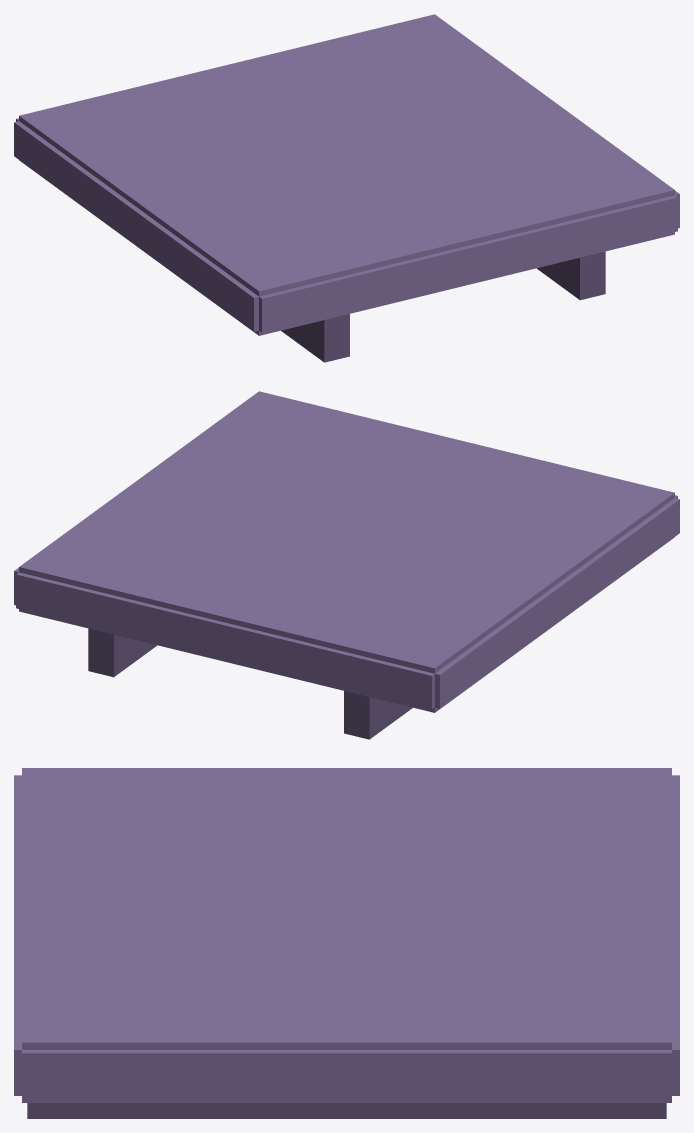
File: ebonwood_platform_v0.glb
3 renders of one model, top to bottom at view 1: azimuth 30°, elevation 25°; view 2: azimuth 150°, elevation 25°; view 3: azimuth 270°, elevation 25°, orthographic. The views are drawn at different scales.
Visible parts, largest first — view 1: ebonwood_platform_v0; view 2: ebonwood_platform_v0; view 3: ebonwood_platform_v0.
Boxes of the visible parts, x1,y1,x2,y2 form: ebonwood_platform_v0: (14, 14, 679, 362); ebonwood_platform_v0: (14, 391, 679, 739); ebonwood_platform_v0: (14, 768, 679, 1118).
Bounding box in the file's own units: 1 × 0.2 × 1.
